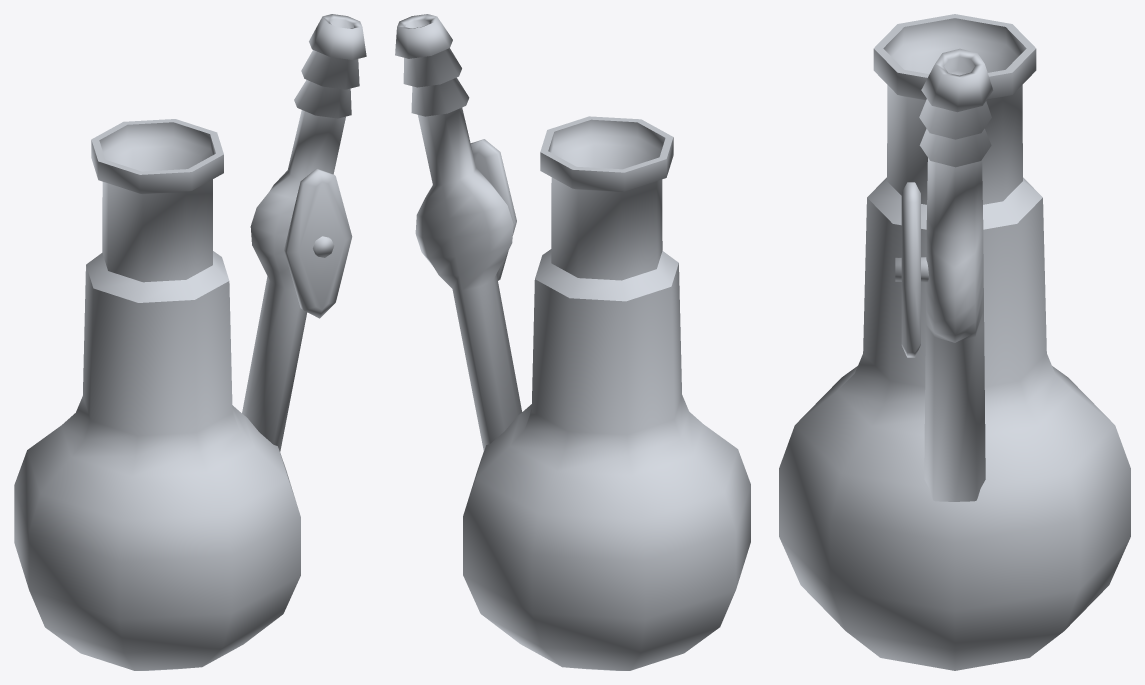
The model's file is bottle_glassware_schlenk_flask_large.glb.
The picture shows the model from 3 angles, left to right: view 1: azimuth 30°, elevation 25°; view 2: azimuth 150°, elevation 25°; view 3: azimuth 270°, elevation 25°; orthographic projection. The views are drawn at different scales.
Visible parts, largest first — view 1: bottle_glassware_schlenk_flask_large, bottle_glassware_schlenk_flask_large_knob; view 2: bottle_glassware_schlenk_flask_large, bottle_glassware_schlenk_flask_large_knob; view 3: bottle_glassware_schlenk_flask_large, bottle_glassware_schlenk_flask_large_knob.
Part boxes in pixels (x1=…): bottle_glassware_schlenk_flask_large: x1=14, y1=14, x2=366, y2=670; bottle_glassware_schlenk_flask_large_knob: x1=284, y1=168, x2=352, y2=318; bottle_glassware_schlenk_flask_large: x1=395, y1=14, x2=750, y2=670; bottle_glassware_schlenk_flask_large_knob: x1=470, y1=139, x2=516, y2=280; bottle_glassware_schlenk_flask_large: x1=779, y1=14, x2=1130, y2=670; bottle_glassware_schlenk_flask_large_knob: x1=901, y1=182, x2=920, y2=357.
Bounding box in the file's own units: 18.94 × 31.86 × 14.53.
1 material, 1 textured.
